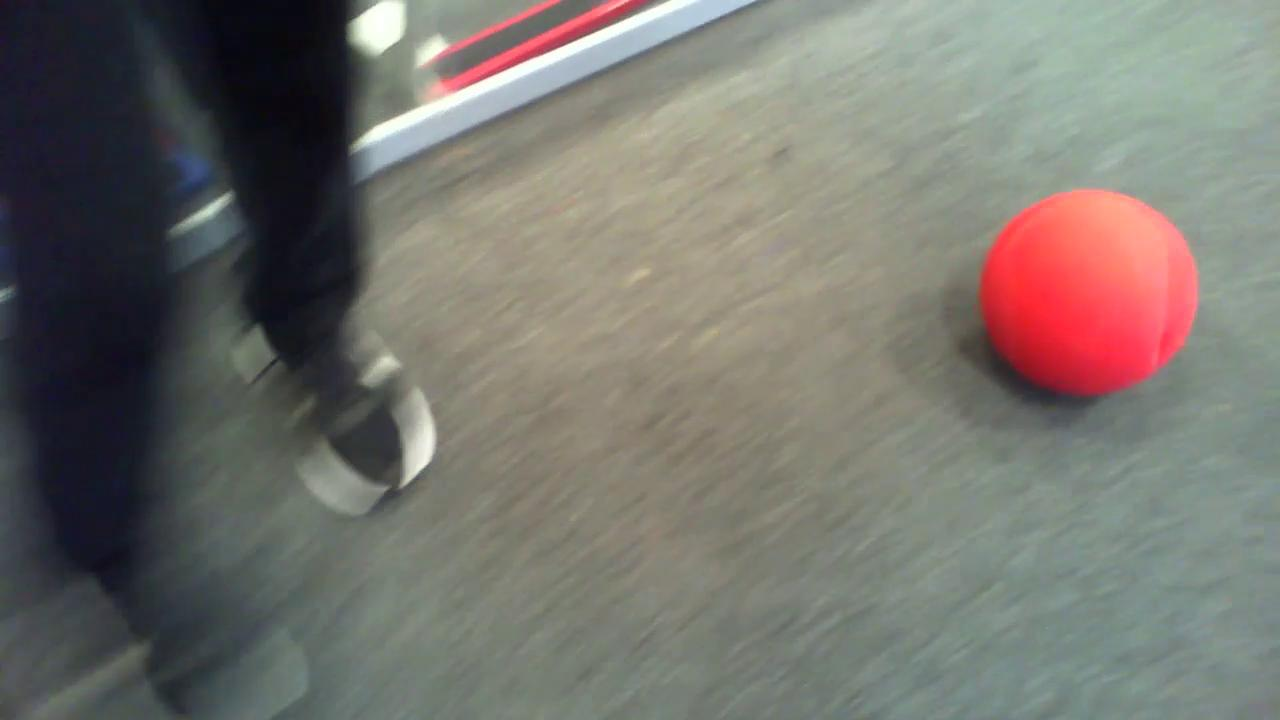Red_Ball: (966, 182, 1205, 412)
